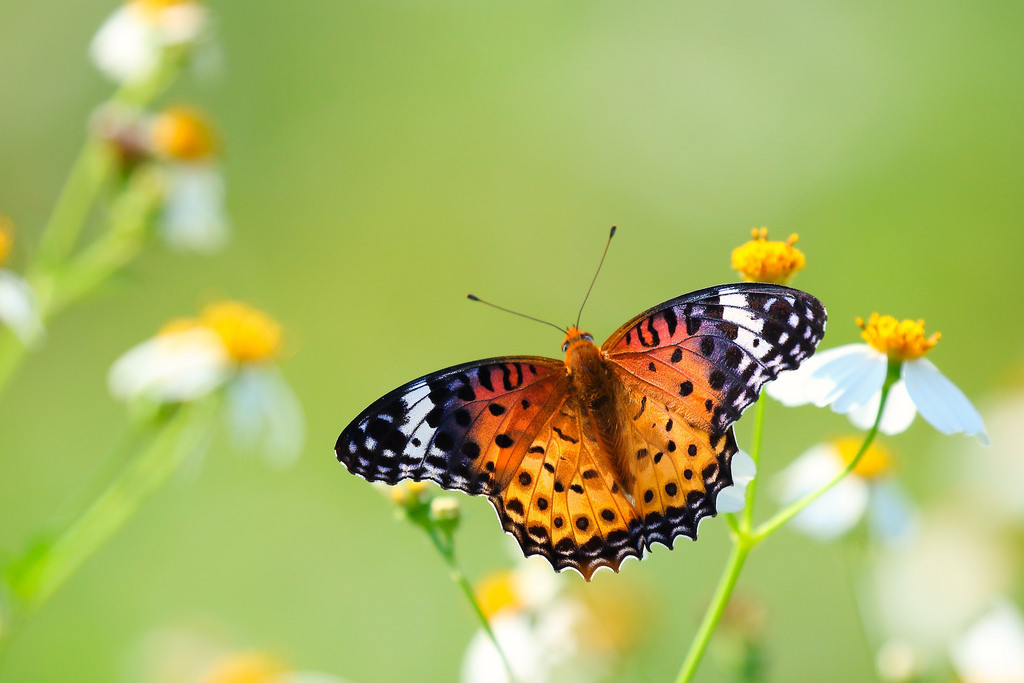Argyreus hyperbius: (330, 221, 833, 578)
butterfly: (332, 223, 835, 580)
